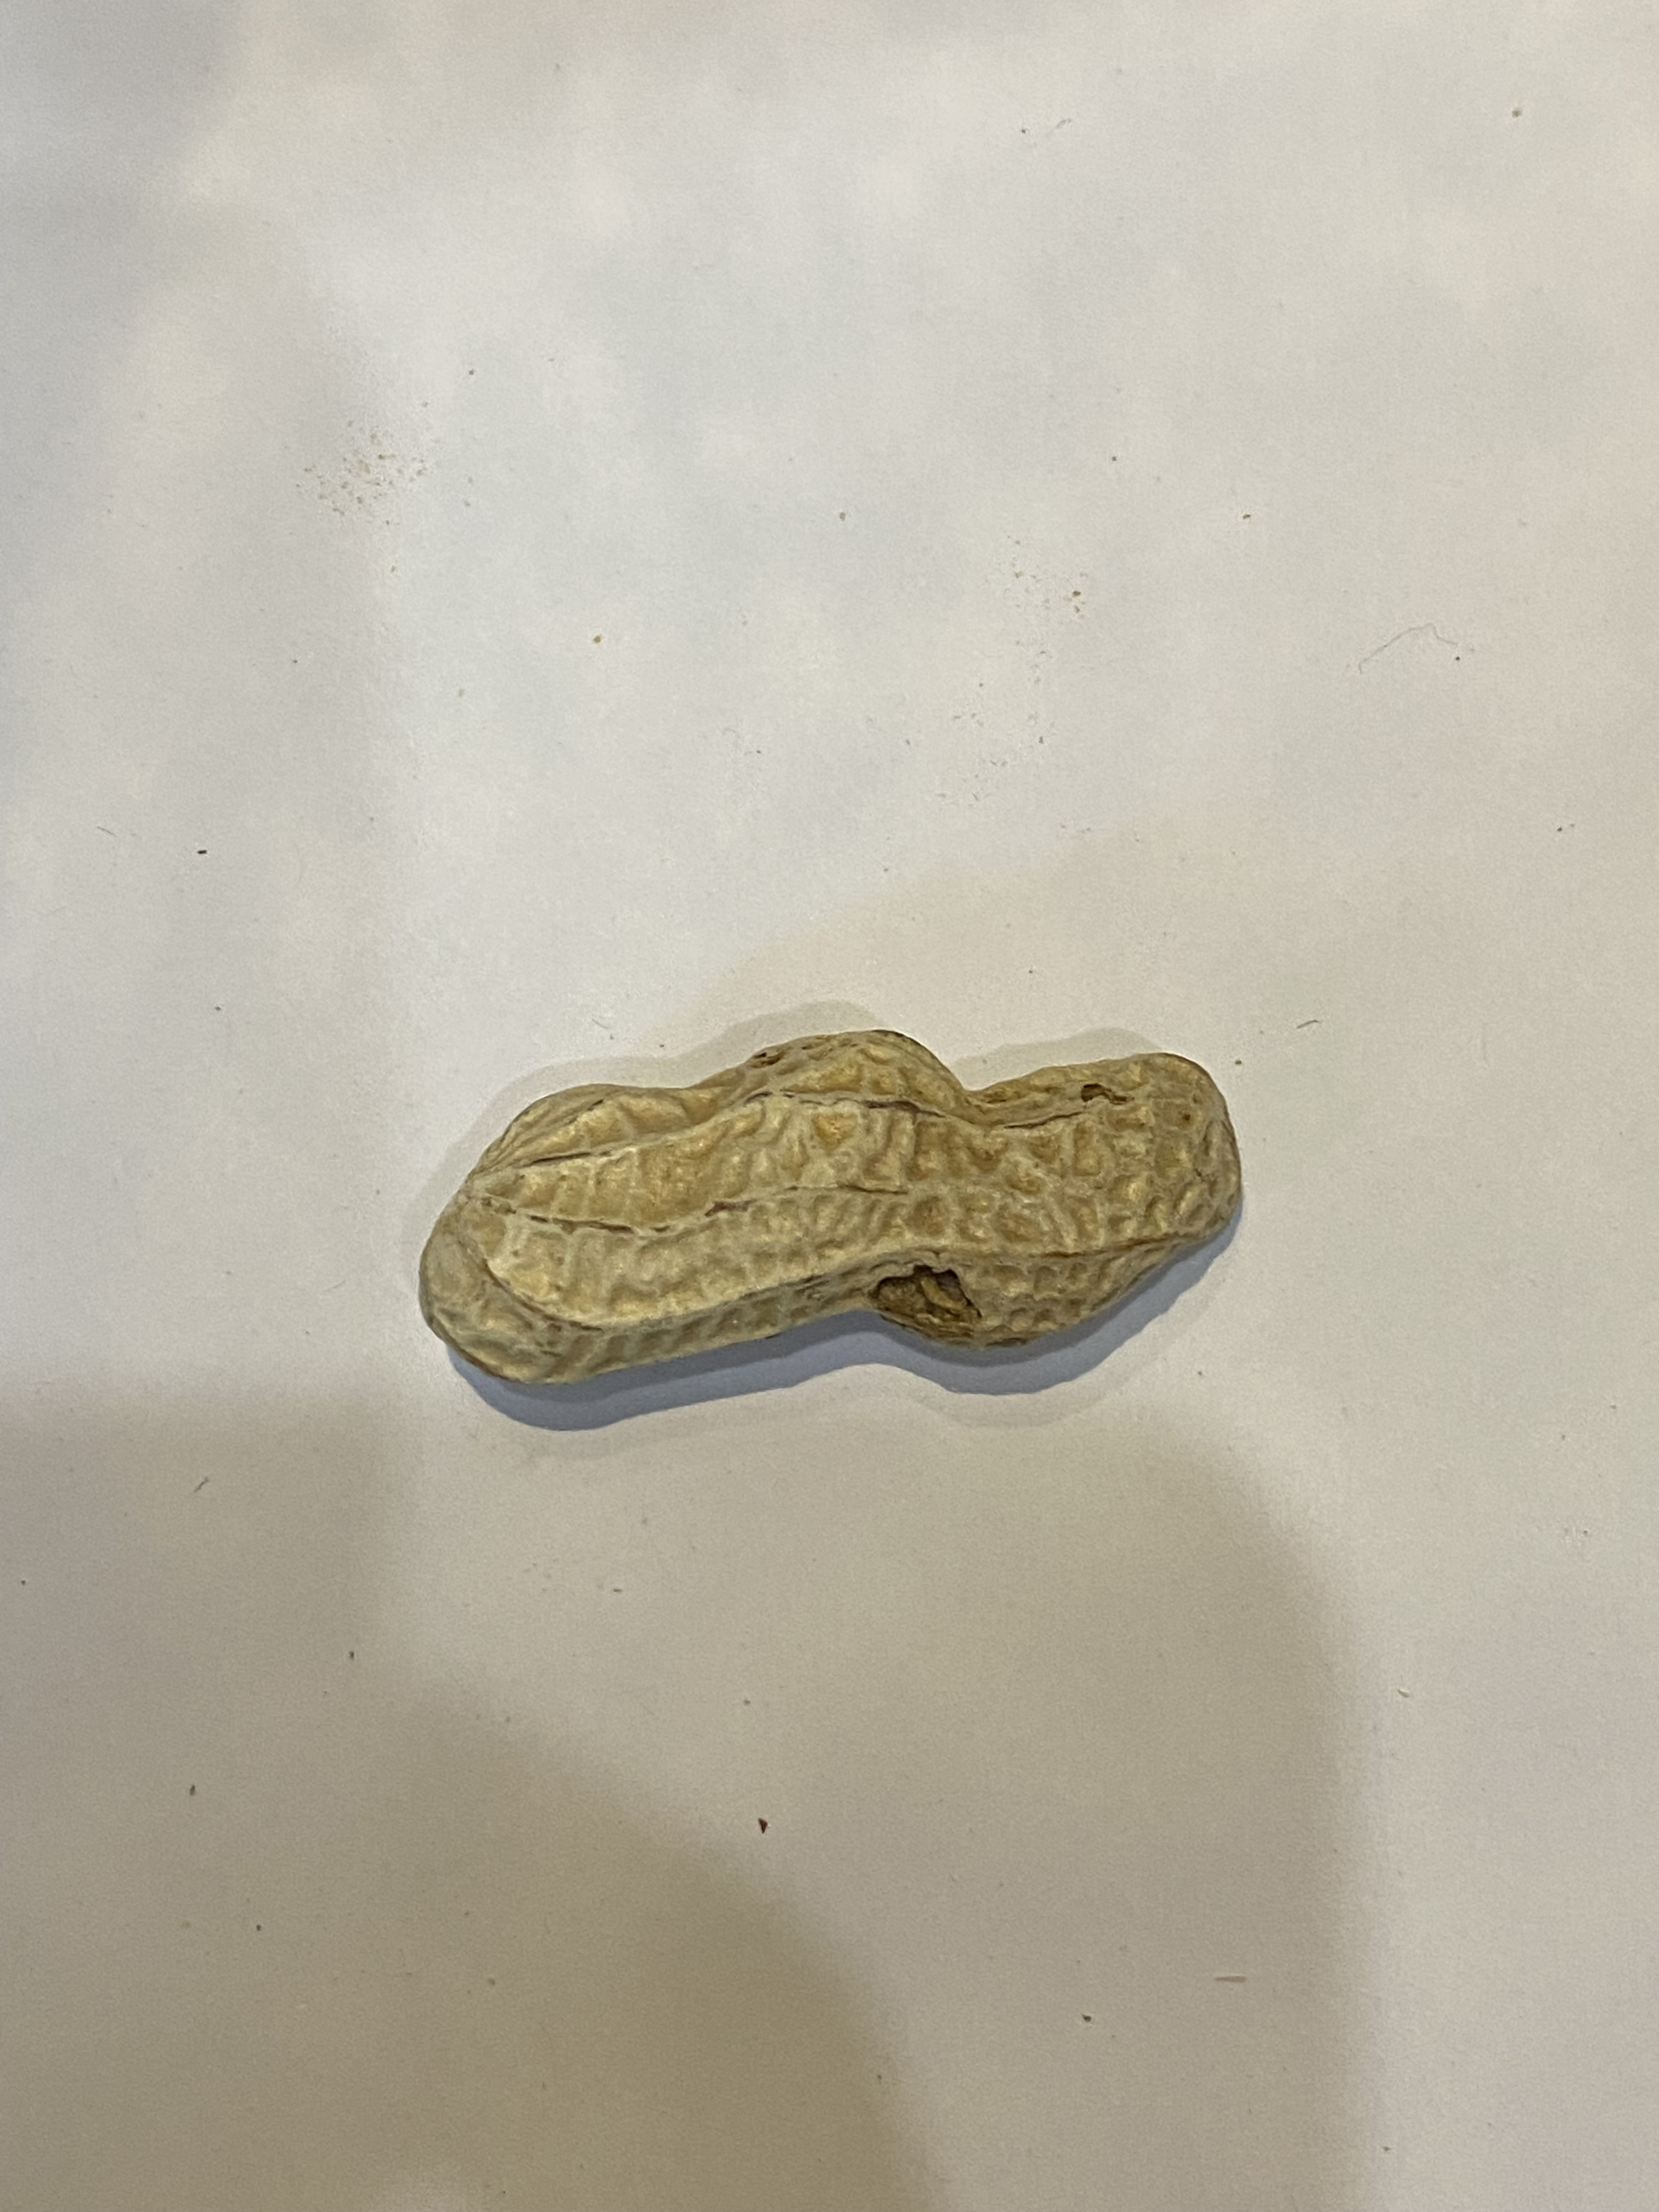kacang3: (406, 1028, 1267, 1386)
